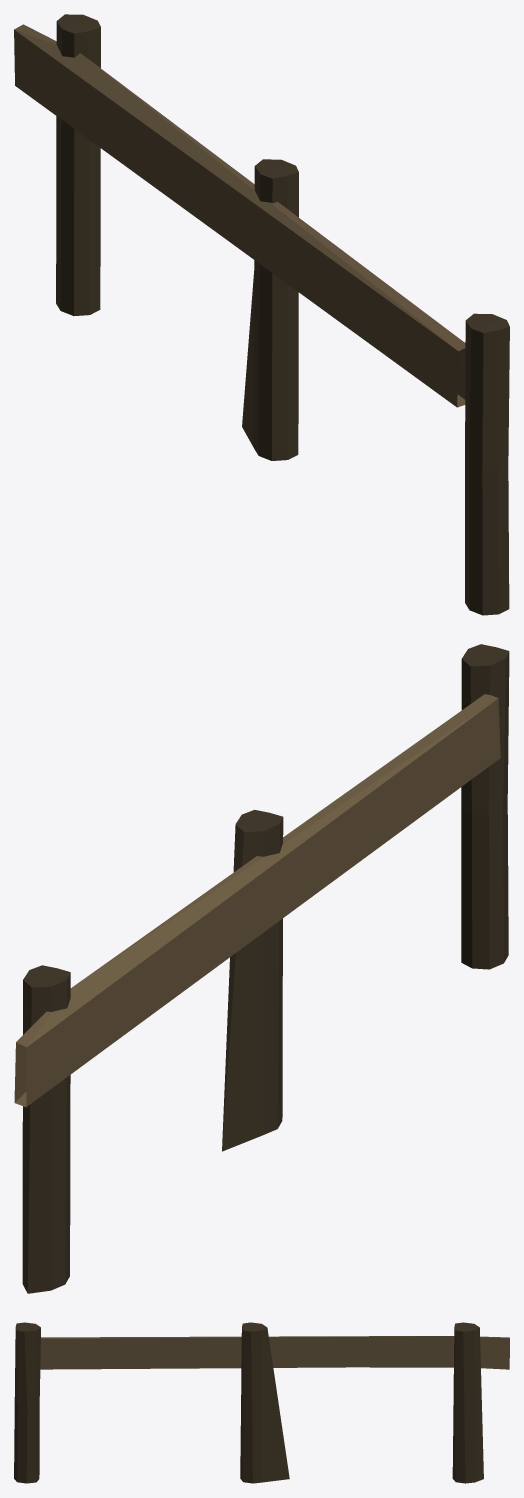
File: EA03_Village_Fence_01a.glb
3 views of the same model, one above another, from view 1: azimuth 30°, elevation 25°; view 2: azimuth 150°, elevation 25°; view 3: azimuth 270°, elevation 25° (orthographic). The views are drawn at different scales.
Visible parts, largest first — view 1: EA03_Village_Fence_01a; view 2: EA03_Village_Fence_01a; view 3: EA03_Village_Fence_01a.
Part boxes in pixels (x1=…): EA03_Village_Fence_01a: x1=14, y1=14, x2=509, y2=615; EA03_Village_Fence_01a: x1=14, y1=644, x2=509, y2=1293; EA03_Village_Fence_01a: x1=14, y1=1322, x2=509, y2=1483.
Size of the model in its own units: 0.2643 by 1.76 by 5.19.
1 material, 1 textured.
